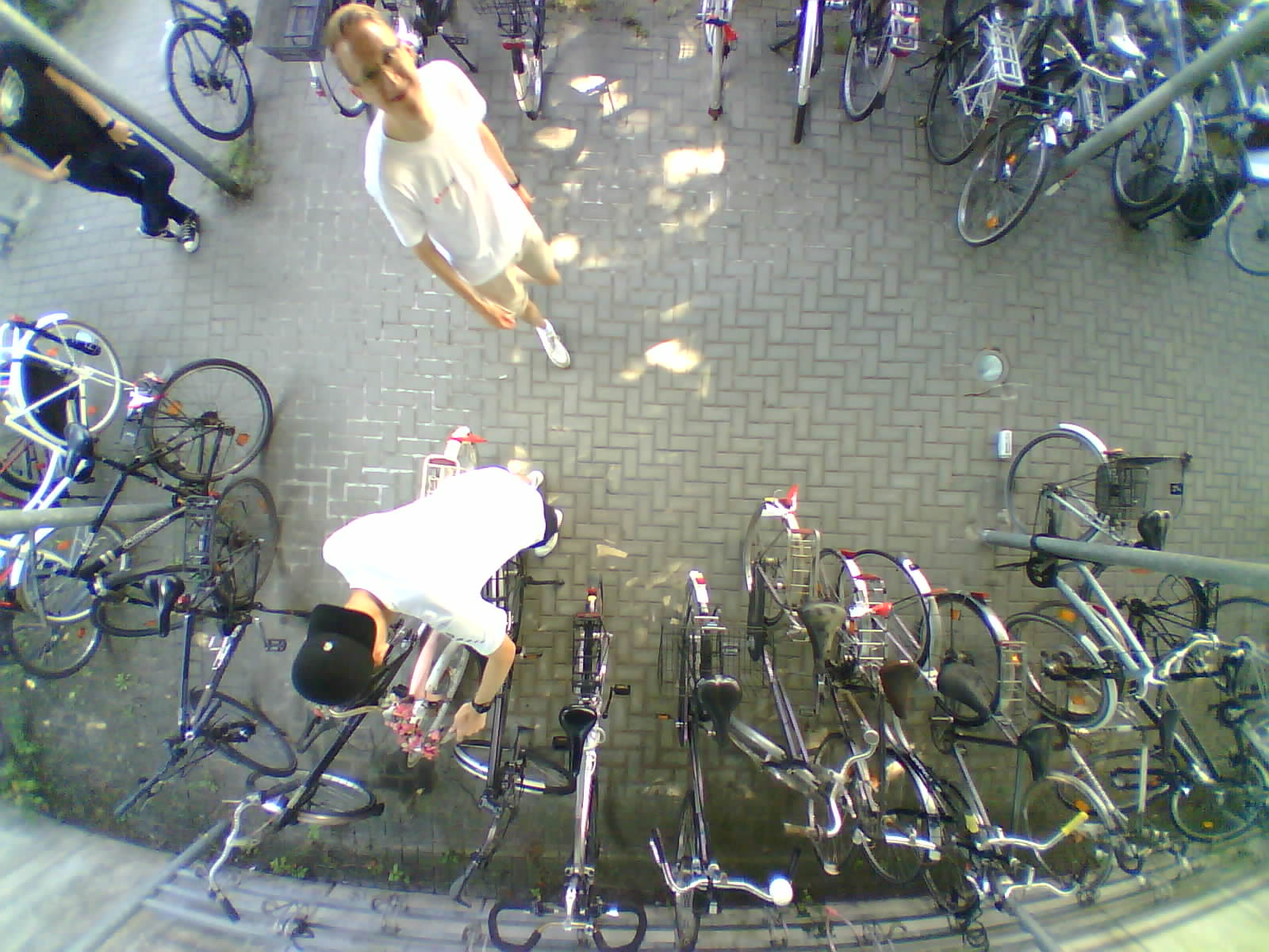bicylce: (90, 355, 267, 648), (5, 304, 129, 626), (530, 581, 633, 952), (999, 416, 1119, 722), (184, 480, 308, 775), (650, 567, 740, 952), (957, 0, 1088, 247), (736, 487, 827, 801), (857, 555, 945, 869), (935, 594, 1015, 884), (809, 545, 881, 856)
saddle: (694, 677, 749, 744), (938, 664, 999, 723), (139, 577, 189, 639), (875, 659, 921, 726), (558, 703, 602, 773), (803, 596, 842, 665), (55, 418, 98, 478), (1103, 11, 1147, 69), (1019, 717, 1058, 780), (1139, 499, 1174, 568), (1158, 702, 1188, 766)
